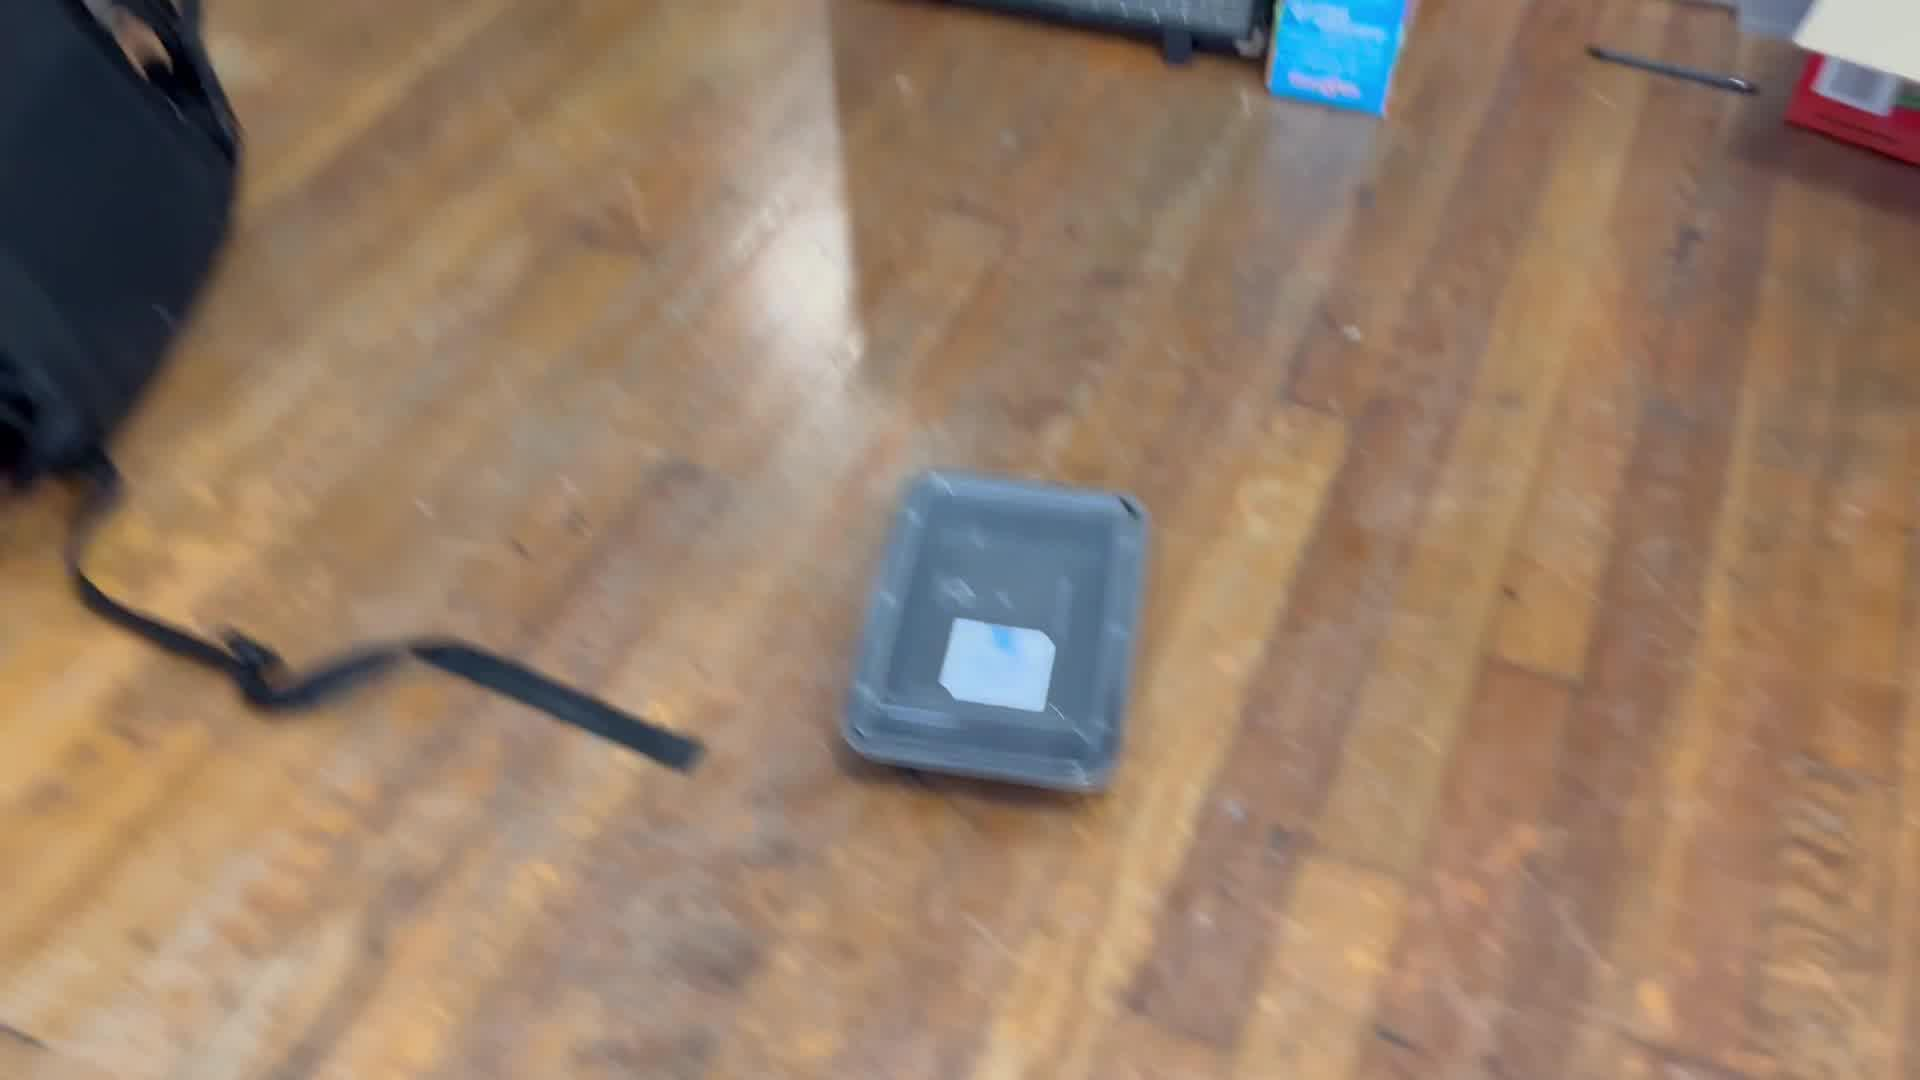lp_cup_lids: (831, 455, 1152, 804)
